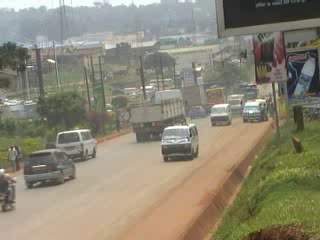Car: (22, 148, 76, 188), (188, 103, 208, 120)
Motorcycle: (0, 166, 18, 213)
